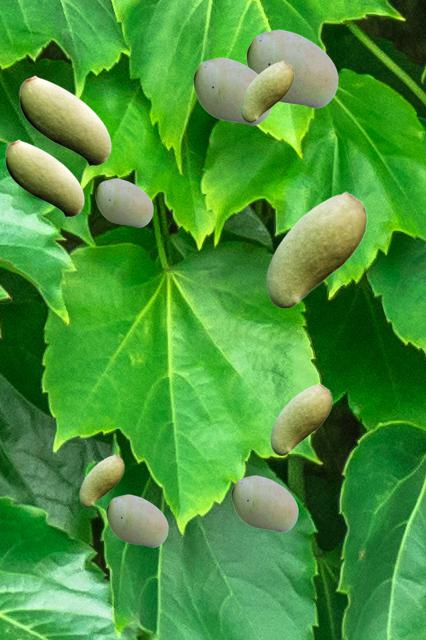green_mango: (266, 191, 366, 307), (19, 75, 110, 165), (246, 29, 337, 107), (5, 139, 83, 216), (193, 57, 271, 124), (270, 383, 331, 454), (231, 475, 297, 531), (240, 60, 293, 121), (106, 494, 167, 546), (95, 178, 152, 226), (79, 454, 123, 506)
